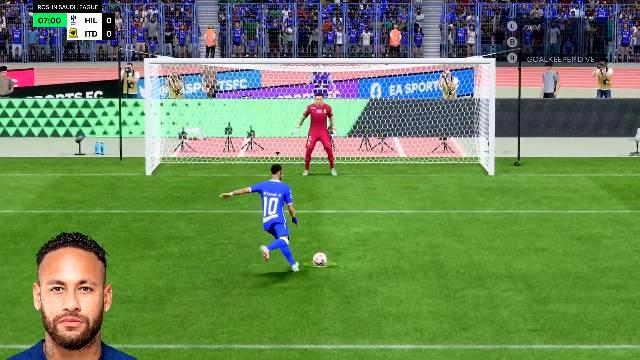bottom-left: (157, 132, 263, 180)
bottom-right: (376, 130, 484, 178)
center-down: (266, 132, 374, 180)
center-up: (265, 66, 373, 128)
circle: (303, 258, 337, 266)
football: (313, 253, 327, 265)
goalkeeper: (302, 107, 342, 181)
player: (218, 165, 302, 287)
top-left: (156, 67, 264, 129)
top-right: (374, 67, 486, 128)
